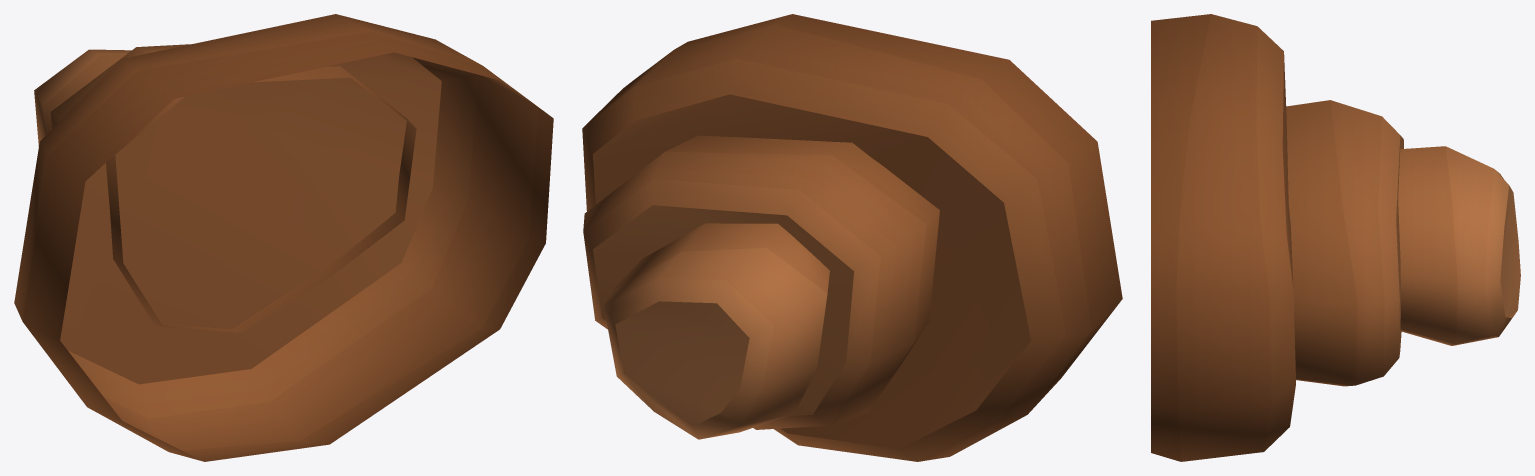
The model's file is Rock Pillar 01.FBX.
The picture shows the model from 3 angles, left to right: view 1: azimuth 30°, elevation 25°; view 2: azimuth 150°, elevation 25°; view 3: azimuth 270°, elevation 25°; orthographic projection. The views are drawn at different scales.
Visible parts, largest first — view 1: Rock Pillar 01; view 2: Rock Pillar 01; view 3: Rock Pillar 01.
Boxes of the visible parts, box(x1,y1,x2,y2) form: Rock Pillar 01: box(14, 14, 553, 461); Rock Pillar 01: box(582, 14, 1122, 461); Rock Pillar 01: box(1151, 14, 1520, 461).
Size of the model in its own units: 368 by 285 by 257.
Materials: 1 (1 with a texture image).
